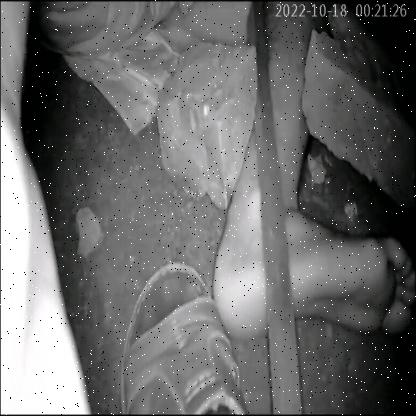leg: (207, 0, 416, 356)
